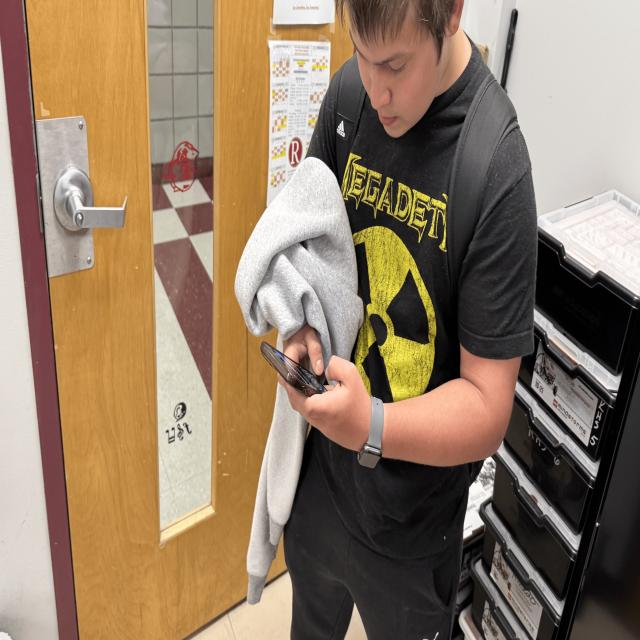pen: (260, 340, 333, 405)
